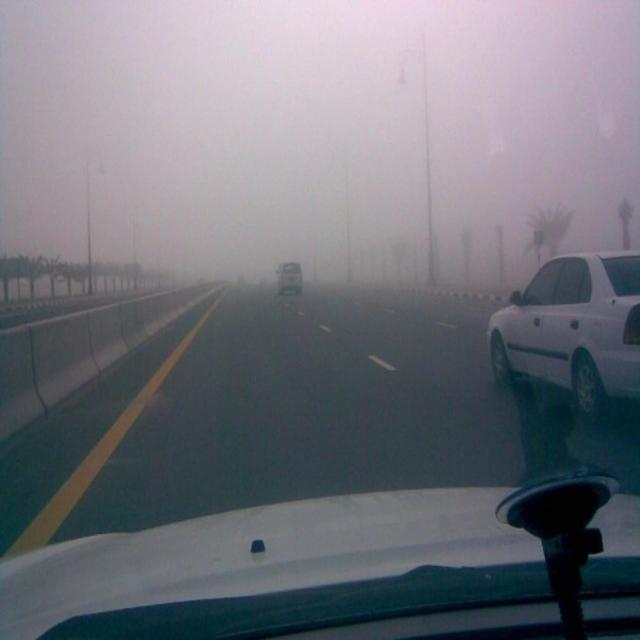Car: (485, 246, 640, 416)
Van: (275, 260, 304, 295)
